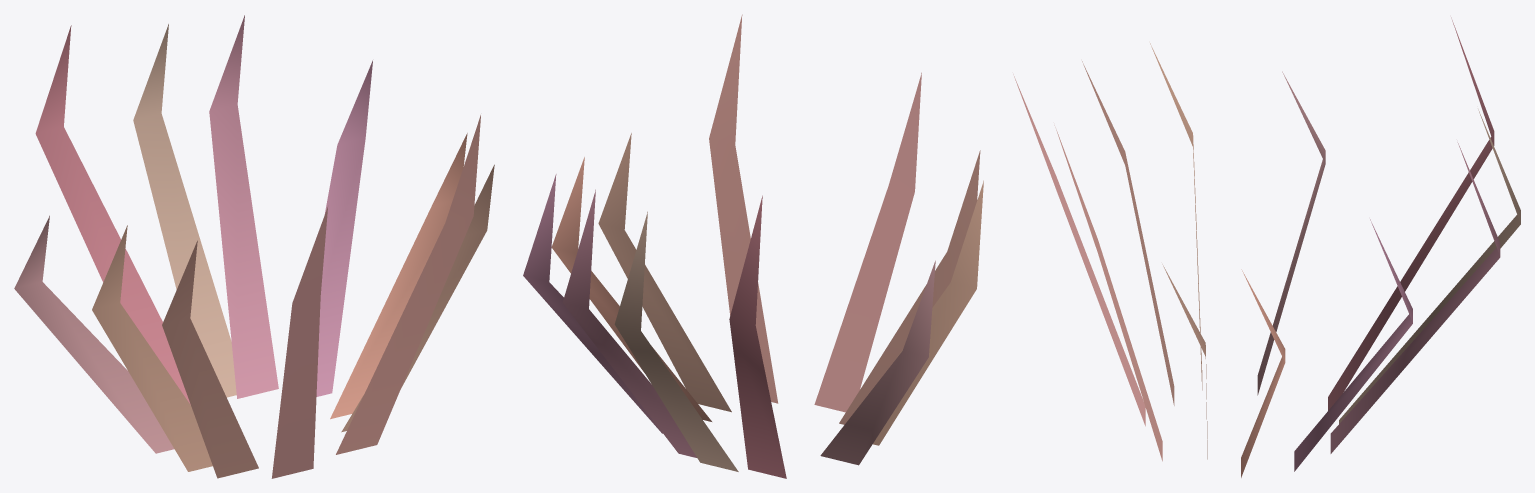
Rendered from WC_RIVER_Grass_Bank_A.glb.
3 views of the same model, side by side, from view 1: azimuth 30°, elevation 25°; view 2: azimuth 150°, elevation 25°; view 3: azimuth 270°, elevation 25° (orthographic). The views are drawn at different scales.
Visible parts, largest first — view 1: WC_RIVER_Grass_Bank_A_RenderMesh; view 2: WC_RIVER_Grass_Bank_A_RenderMesh; view 3: WC_RIVER_Grass_Bank_A_RenderMesh.
Part boxes in pixels (left/top/right/bottom): WC_RIVER_Grass_Bank_A_RenderMesh: left=14, top=15, right=494, bottom=478; WC_RIVER_Grass_Bank_A_RenderMesh: left=523, top=14, right=983, bottom=478; WC_RIVER_Grass_Bank_A_RenderMesh: left=1013, top=17, right=1520, bottom=477.
Size of the model in its own units: 0.5105 by 0.41 by 0.5162.
